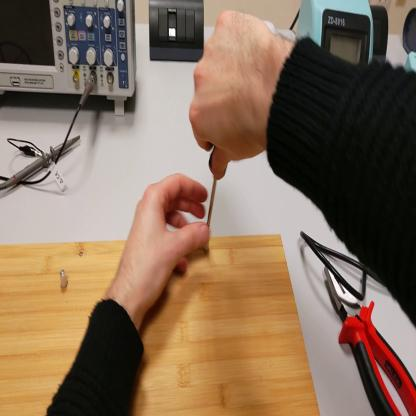hand: (190, 14, 283, 181), (119, 174, 211, 311)
oscilloscope: (1, 1, 139, 118)
oscilloscope probe tip: (1, 132, 81, 191)
pliers: (326, 264, 416, 416)
screwdriver-: (208, 152, 229, 225)
socket: (373, 6, 389, 62), (403, 6, 416, 57)
welder base: (406, 54, 416, 74)
welder station: (299, 1, 375, 60)
working area: (1, 233, 320, 416)
